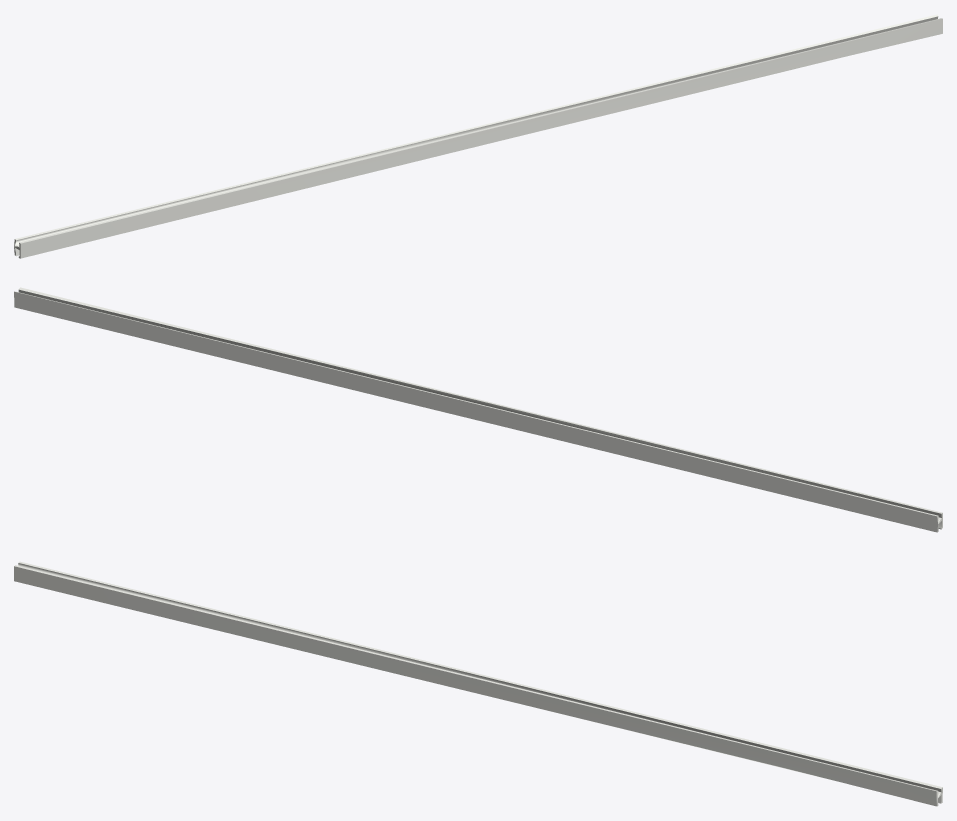
File: vidga_pojedyncza_szyna_na_zasony_20492916.glb
The picture shows the model from 3 angles, top to bottom: view 1: azimuth 30°, elevation 25°; view 2: azimuth 150°, elevation 25°; view 3: azimuth 330°, elevation 25°; orthographic projection.
Parts seen in each view (by area): view 1: vidga_pojedyncza_szyna_na_zasony_20492916; view 2: vidga_pojedyncza_szyna_na_zasony_20492916; view 3: vidga_pojedyncza_szyna_na_zasony_20492916.
Part boxes in pixels (bbox=[...]): vidga_pojedyncza_szyna_na_zasony_20492916: bbox=[14, 14, 942, 258]; vidga_pojedyncza_szyna_na_zasony_20492916: bbox=[14, 287, 942, 532]; vidga_pojedyncza_szyna_na_zasony_20492916: bbox=[14, 561, 942, 806].
Bounding box in the file's own units: 1.4 × 0.0237 × 0.0155.
Materials: 1 (1 with a texture image).
